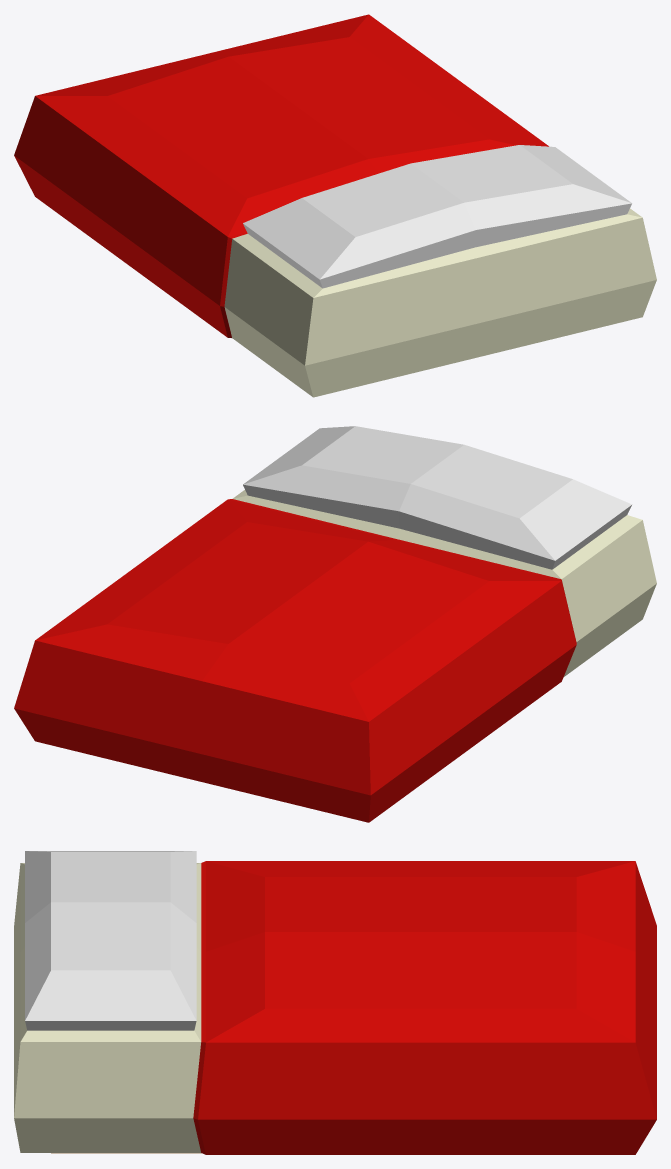
File: bed.fbx
3 views of the same model, one above another, from view 1: azimuth 30°, elevation 25°; view 2: azimuth 150°, elevation 25°; view 3: azimuth 270°, elevation 25° (orthographic). The views are drawn at different scales.
Parts seen in each view (by area): view 1: Cube; view 2: Cube; view 3: Cube.
Boxes of the visible parts, bbox=[...] form: Cube: bbox=[14, 14, 656, 397]; Cube: bbox=[14, 426, 656, 822]; Cube: bbox=[14, 851, 656, 1154].
Bounding box in the file's own units: 217 × 88.99 × 303.
